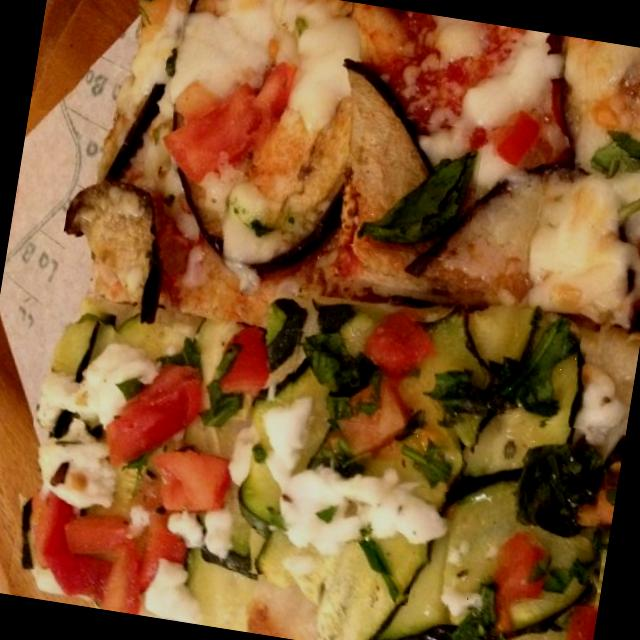basil: (346, 112, 486, 261), (496, 418, 610, 550), (288, 330, 392, 426), (489, 320, 582, 423), (420, 350, 507, 447), (438, 558, 511, 640), (590, 108, 640, 226), (346, 526, 418, 606), (527, 536, 604, 608), (392, 430, 464, 492)
pizza: (35, 0, 640, 640)
